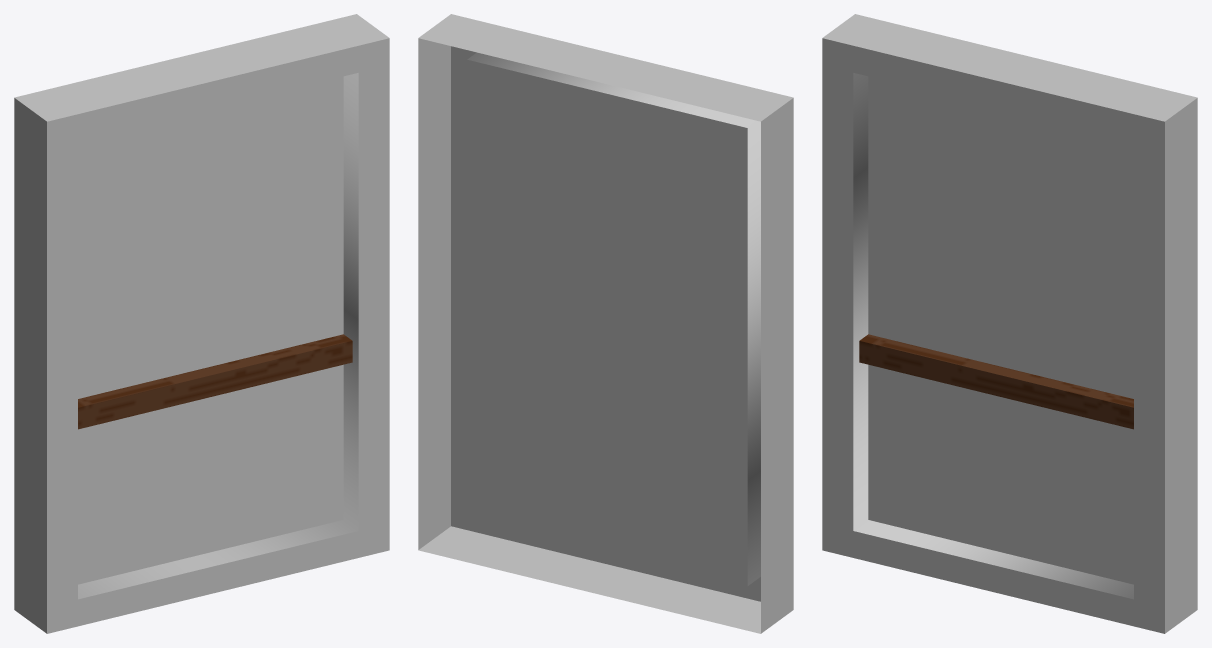
The model's file is Window_3.fbx.
The picture shows the model from 3 angles, left to right: view 1: azimuth 30°, elevation 25°; view 2: azimuth 150°, elevation 25°; view 3: azimuth 330°, elevation 25°; orthographic projection.
Visible parts, largest first — view 1: Window, Frame_03; view 2: Window; view 3: Window, Frame_03.
Part boxes in pixels (<box>): Window: <box>14,14,389,633</box>; Frame_03: <box>78,334,352,429</box>; Window: <box>418,14,793,633</box>; Window: <box>822,14,1197,633</box>; Frame_03: <box>859,334,1133,429</box>.
Bounding box in the file's own units: 210 × 300 × 35.
